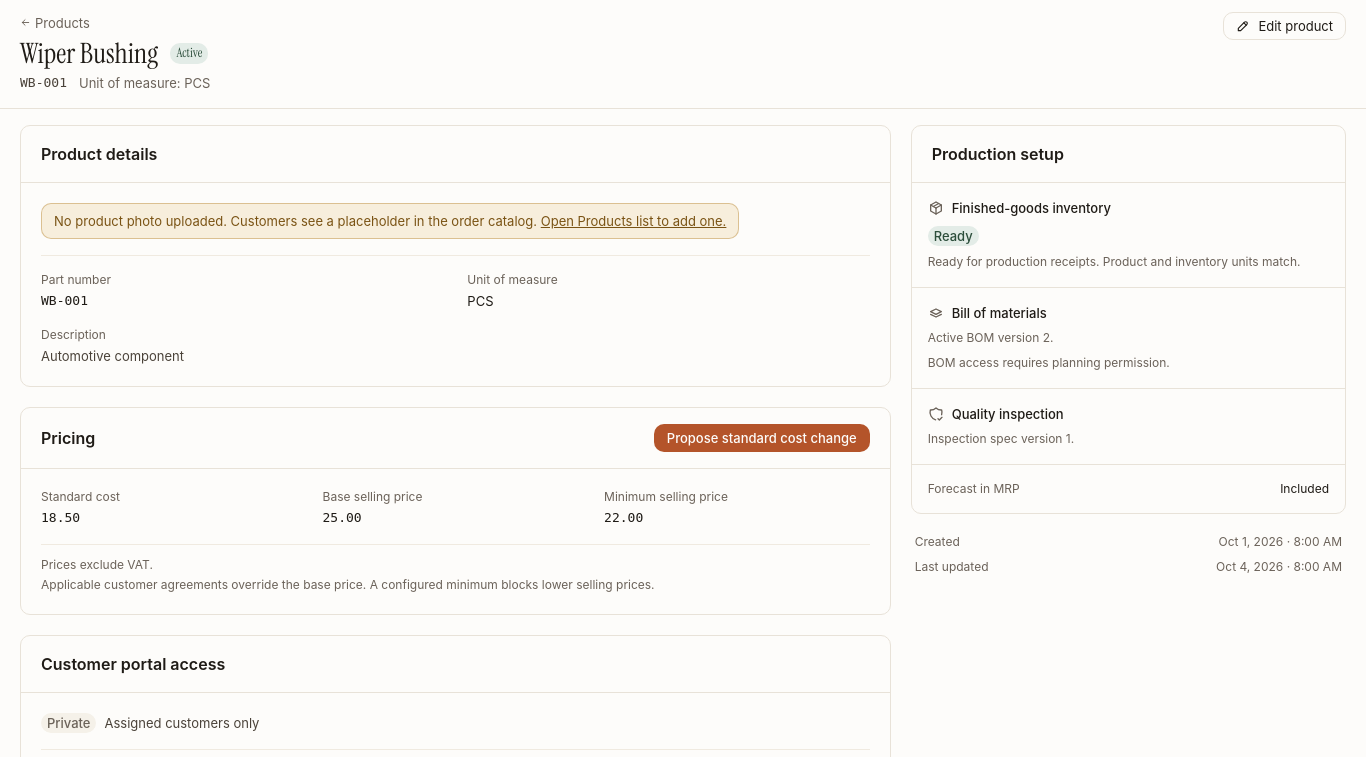
Test case: submits a standard cost proposal and retains entries after failure
Click the button "Propose standard cost change" at [762, 438], box [654,424,870,452]
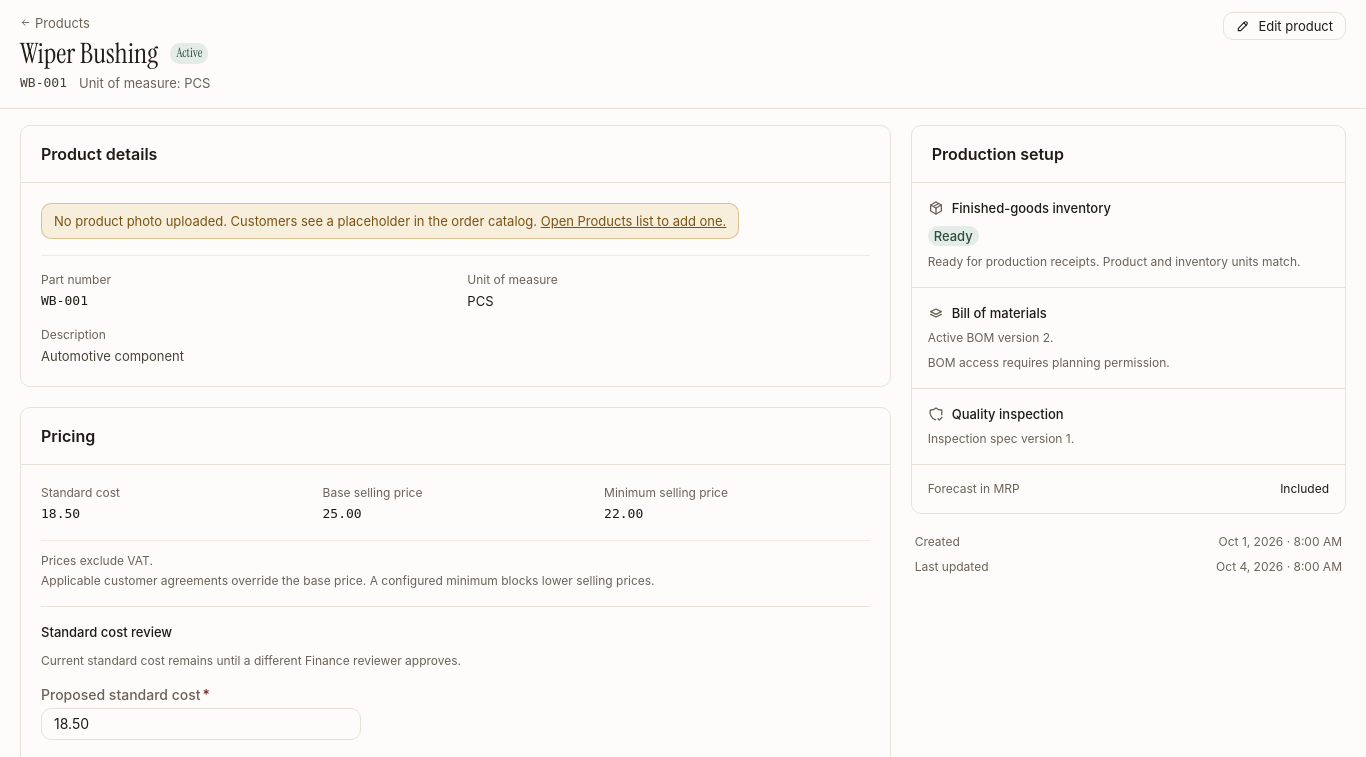
Replace the text in the number field labelled "Proposed standard cost*" with "20.00" at [201, 724], box [42,709,360,739]
(page scrolled)
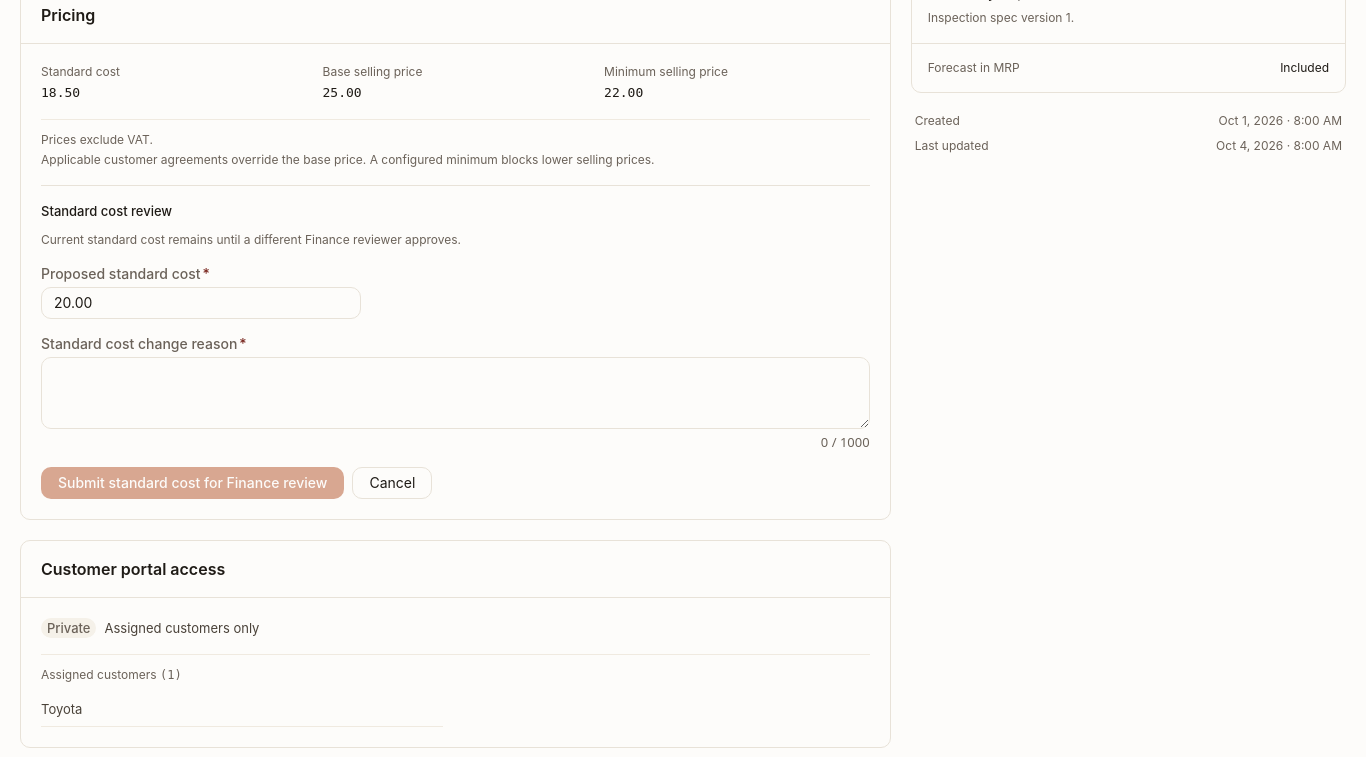
Type "Material cost review" into the text box labelled "Standard cost change reason*" at [455, 393], box [41,357,870,429]
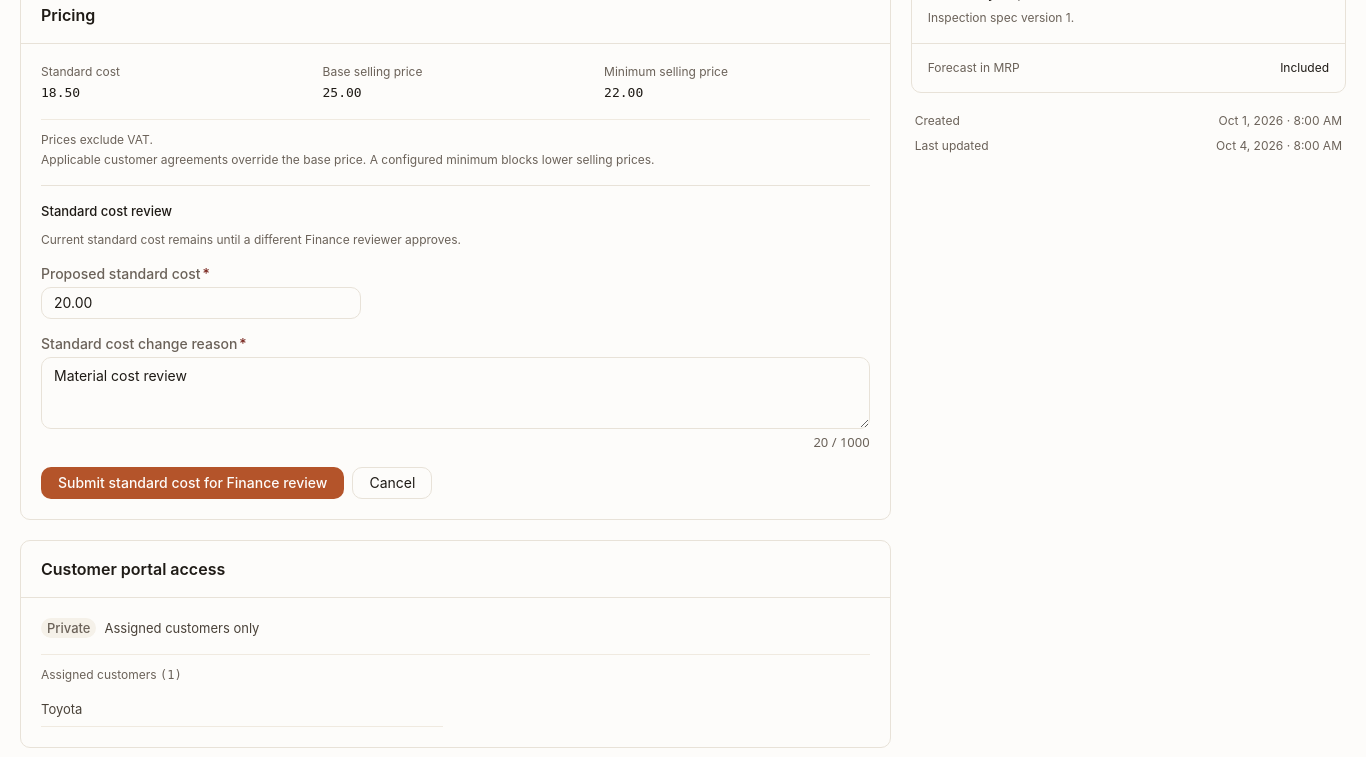
Click the button "Submit standard cost for Finance review" at [193, 483], box [41,467,344,499]
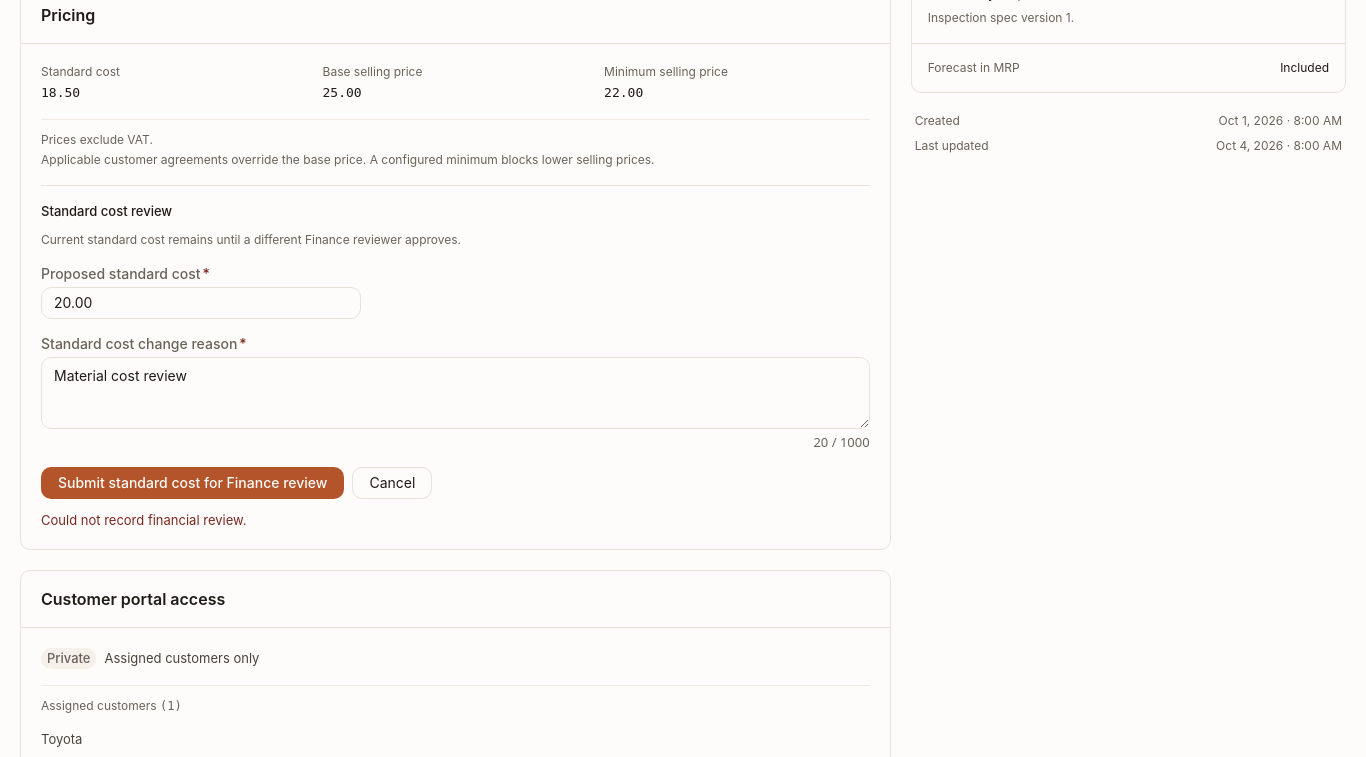
Result: the message reads "Could not record financial review." at [41,512,246,528]
